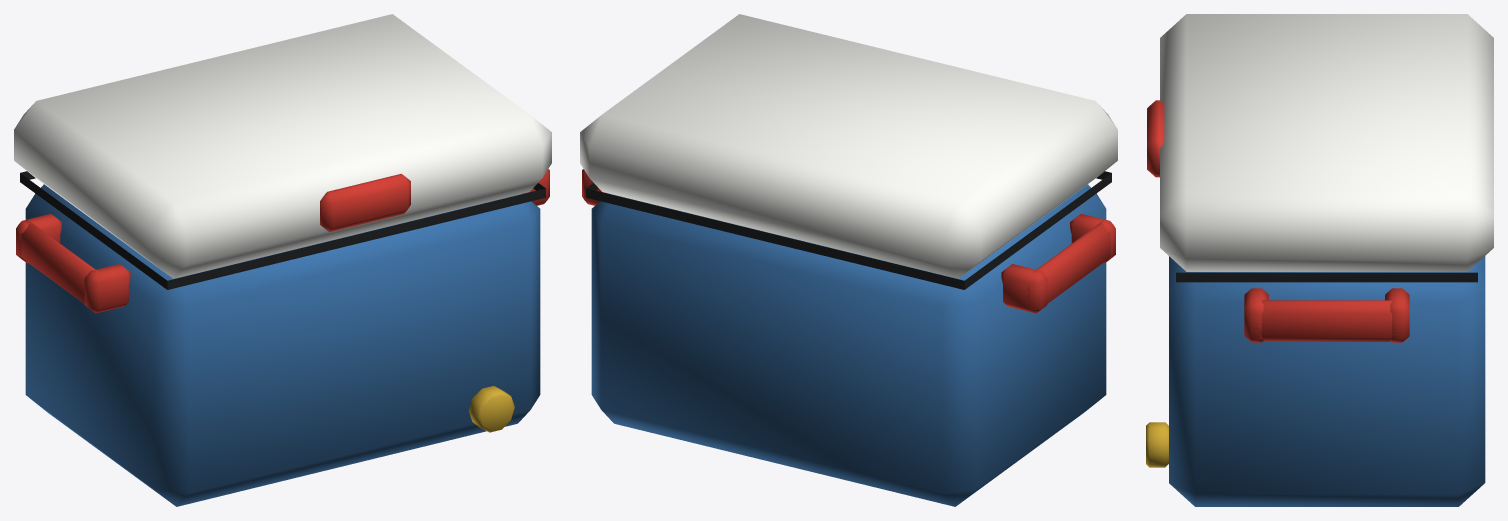
Rendered from SM_Cooler_01.glb.
3 views of the same model, side by side, from view 1: azimuth 30°, elevation 25°; view 2: azimuth 150°, elevation 25°; view 3: azimuth 270°, elevation 25° (orthographic). The views are drawn at different scales.
Parts seen in each view (by area): view 1: SM_Cooler_01; view 2: SM_Cooler_01; view 3: SM_Cooler_01.
Boxes of the visible parts, x1,y1,x2,y2 form: SM_Cooler_01: (14, 14, 551, 506); SM_Cooler_01: (580, 14, 1117, 506); SM_Cooler_01: (1146, 14, 1493, 506).
Size of the model in its own units: 0.62 by 0.4 by 0.396.
1 material, 1 textured.
